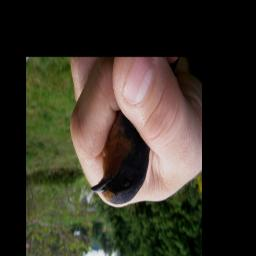Swallow: (89, 109, 152, 207)
